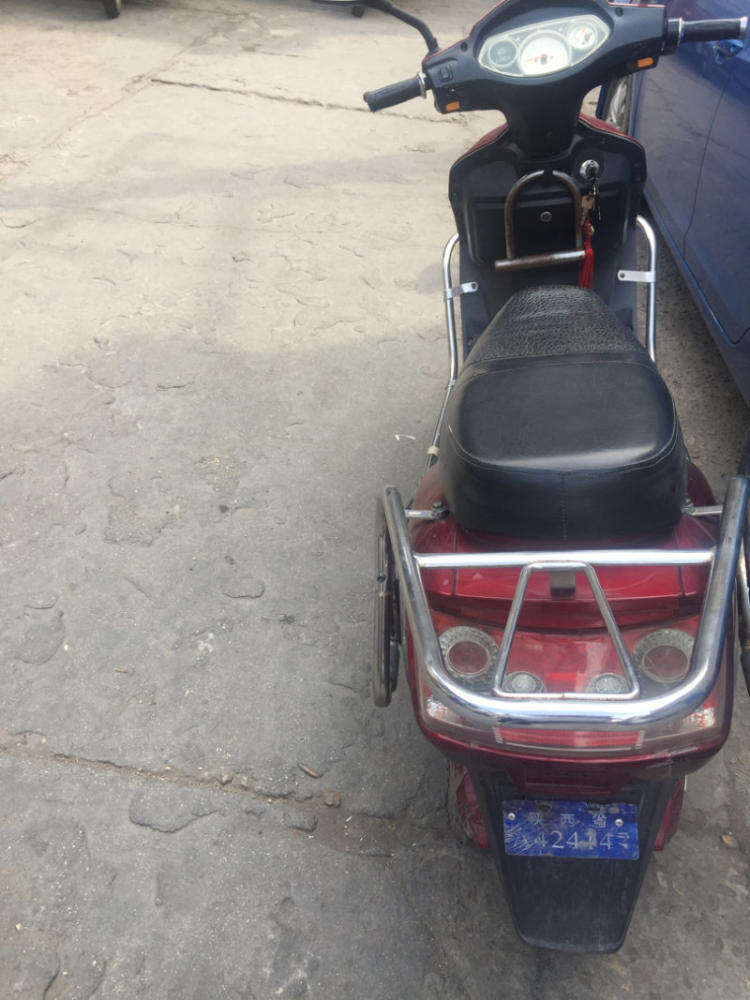电动车: (341, 5, 750, 963)
